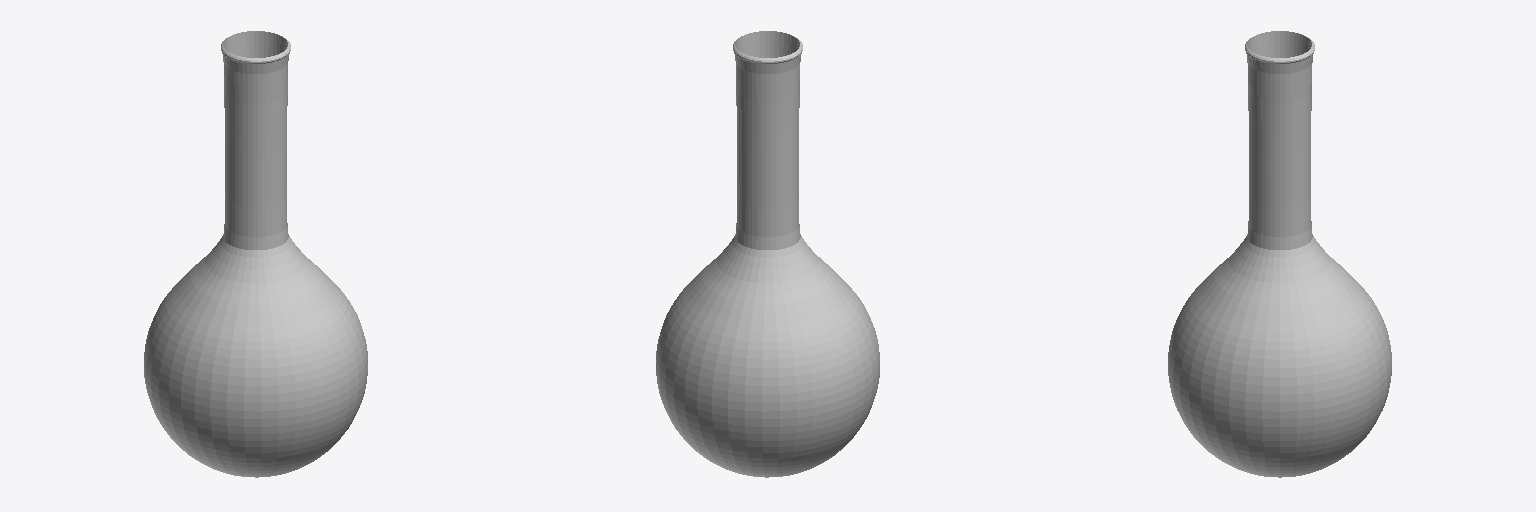
Rendered from CirBottle.obj.
3 views of the same model, side by side, from view 1: azimuth 30°, elevation 25°; view 2: azimuth 150°, elevation 25°; view 3: azimuth 270°, elevation 25° (orthographic).
Visible parts, largest first — view 1: CirBottle; view 2: CirBottle; view 3: CirBottle.
Boxes of the visible parts, x1,y1,x2,y2 form: CirBottle: [144, 31, 367, 477]; CirBottle: [656, 31, 879, 477]; CirBottle: [1168, 31, 1391, 477].
Bounding box in the file's own units: 1.31 × 2.73 × 1.31.